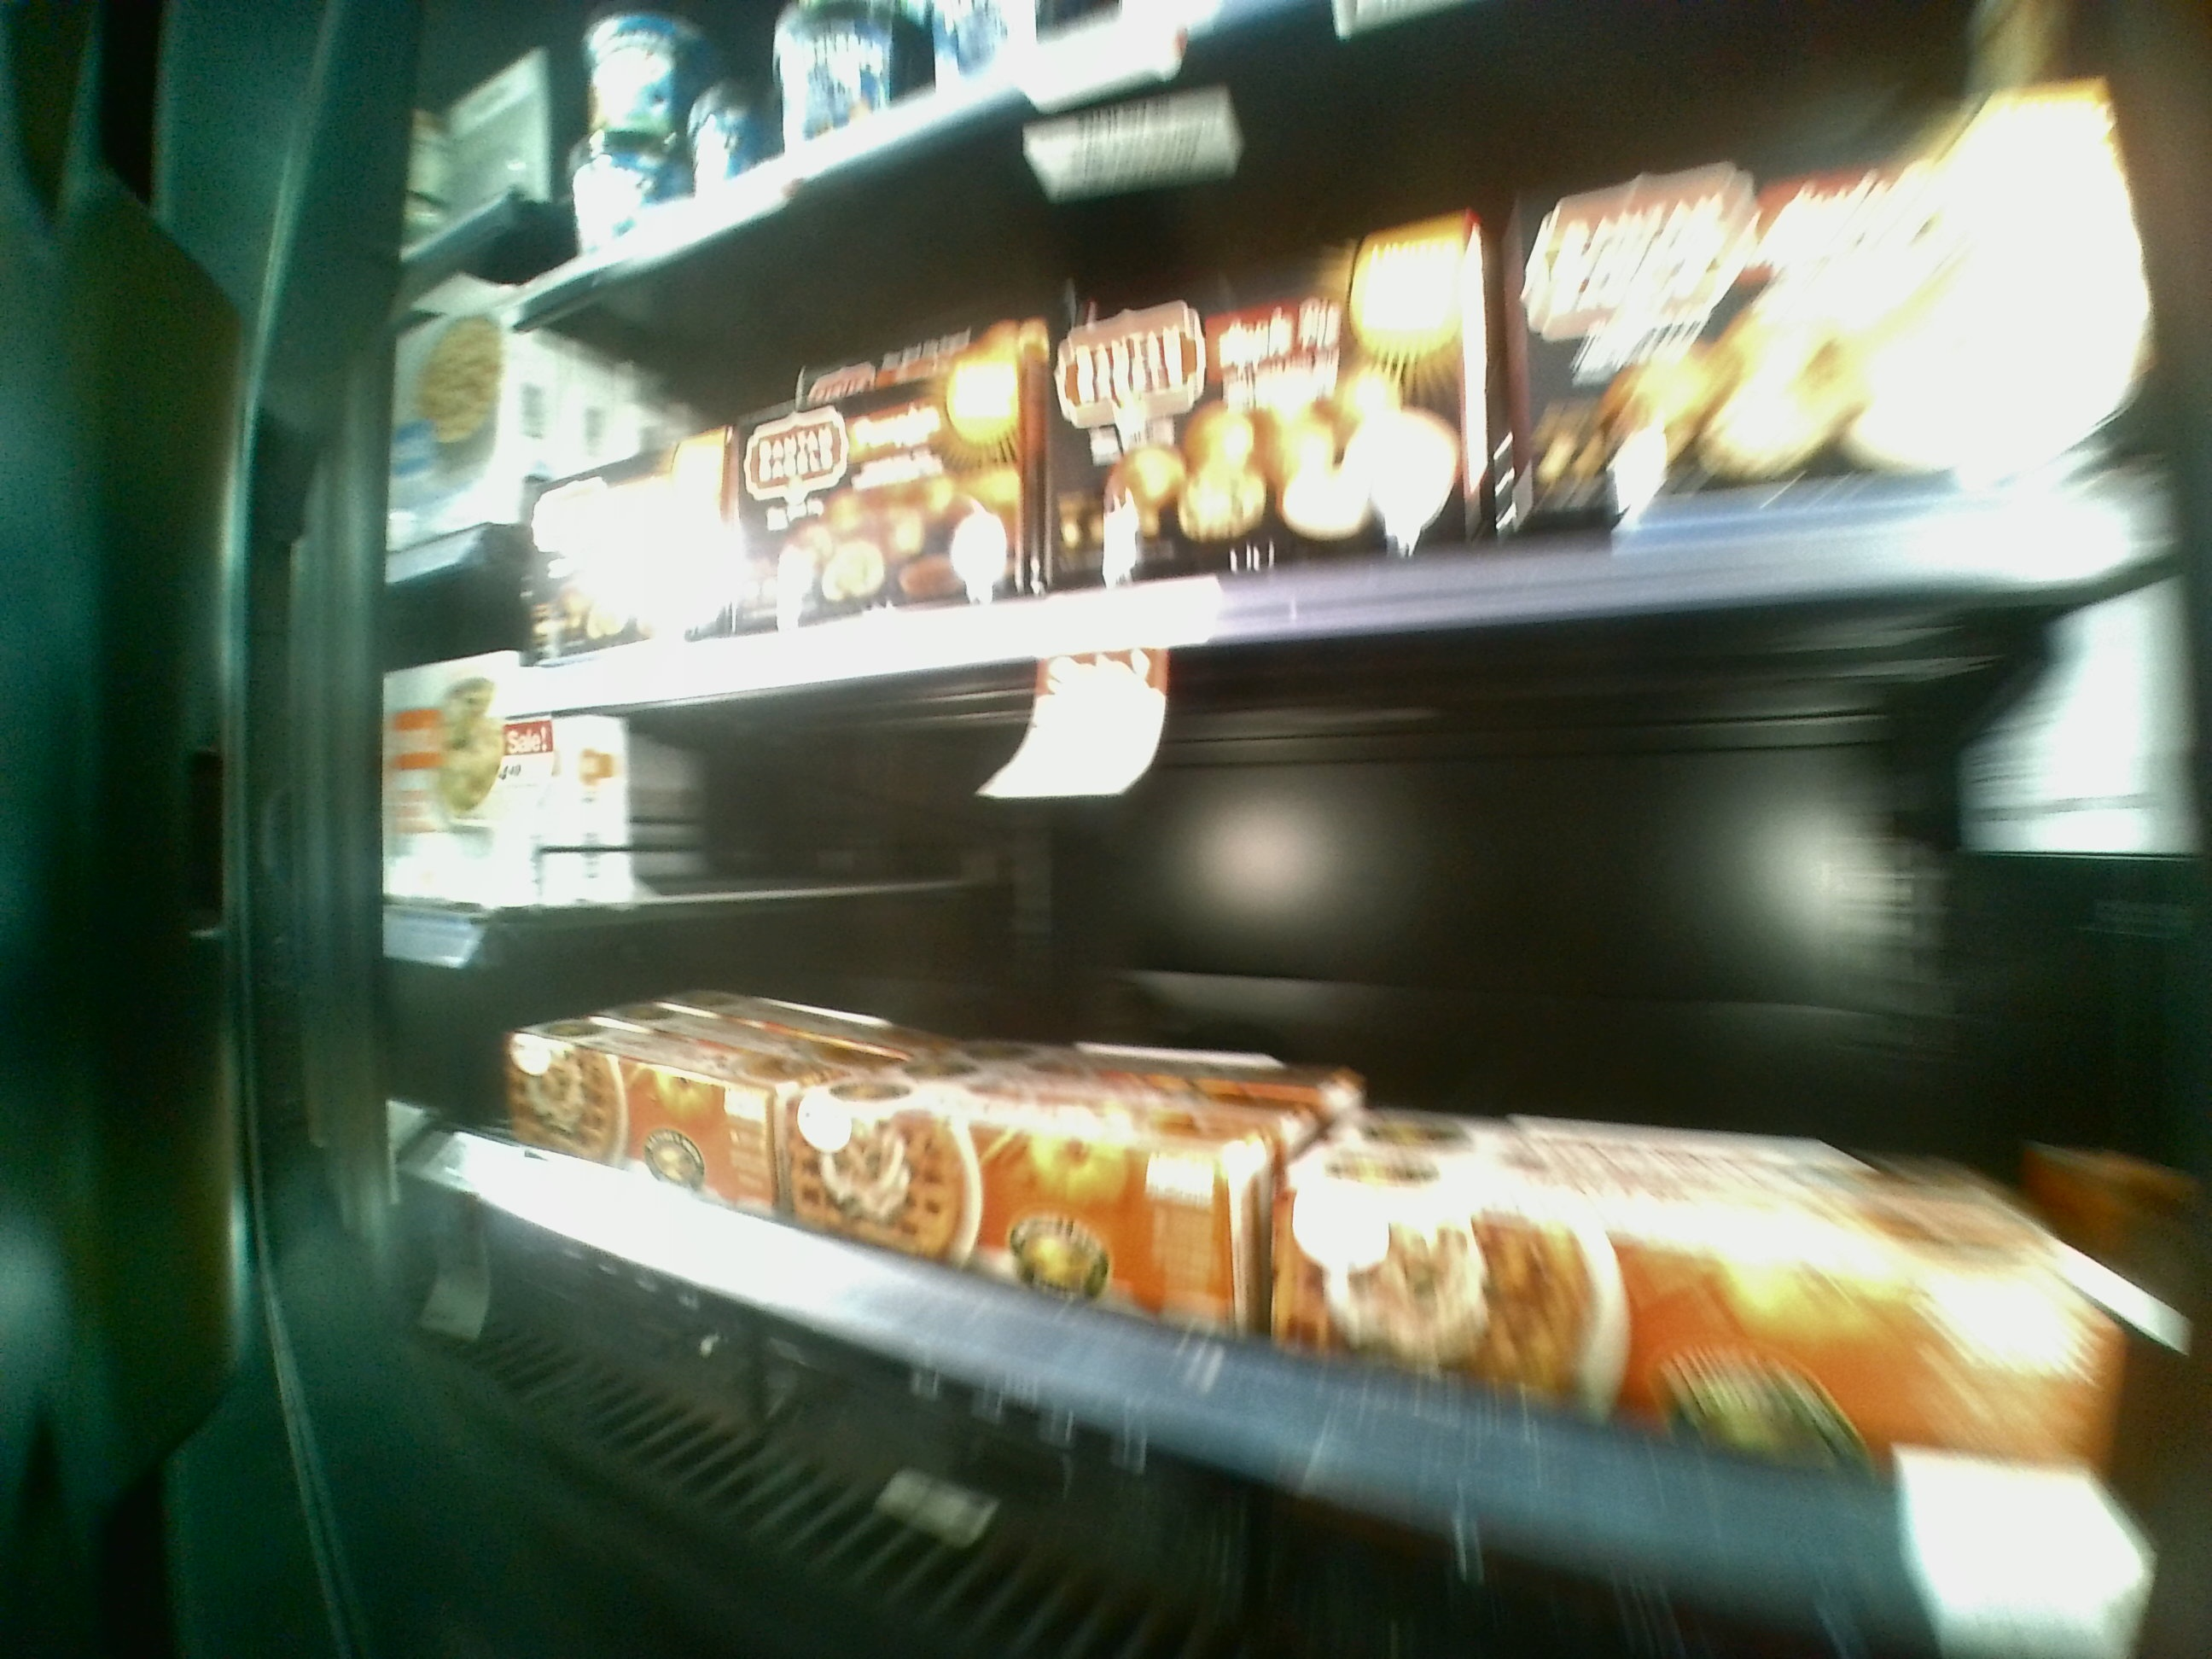shelf: (500, 660, 2158, 1617)
